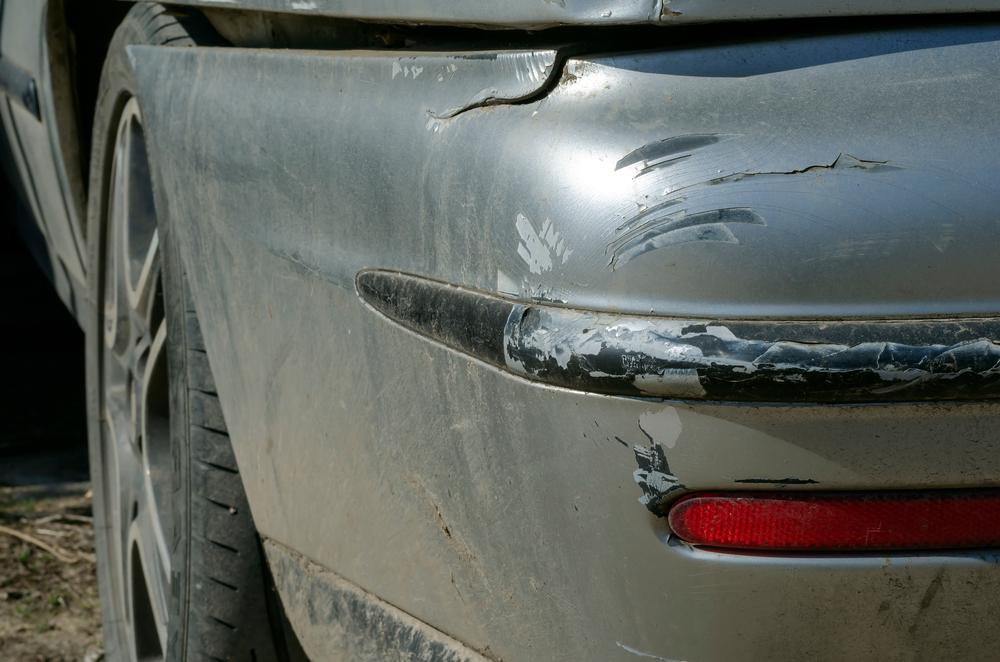crack: (421, 52, 569, 121)
scratch: (480, 125, 1000, 514)
